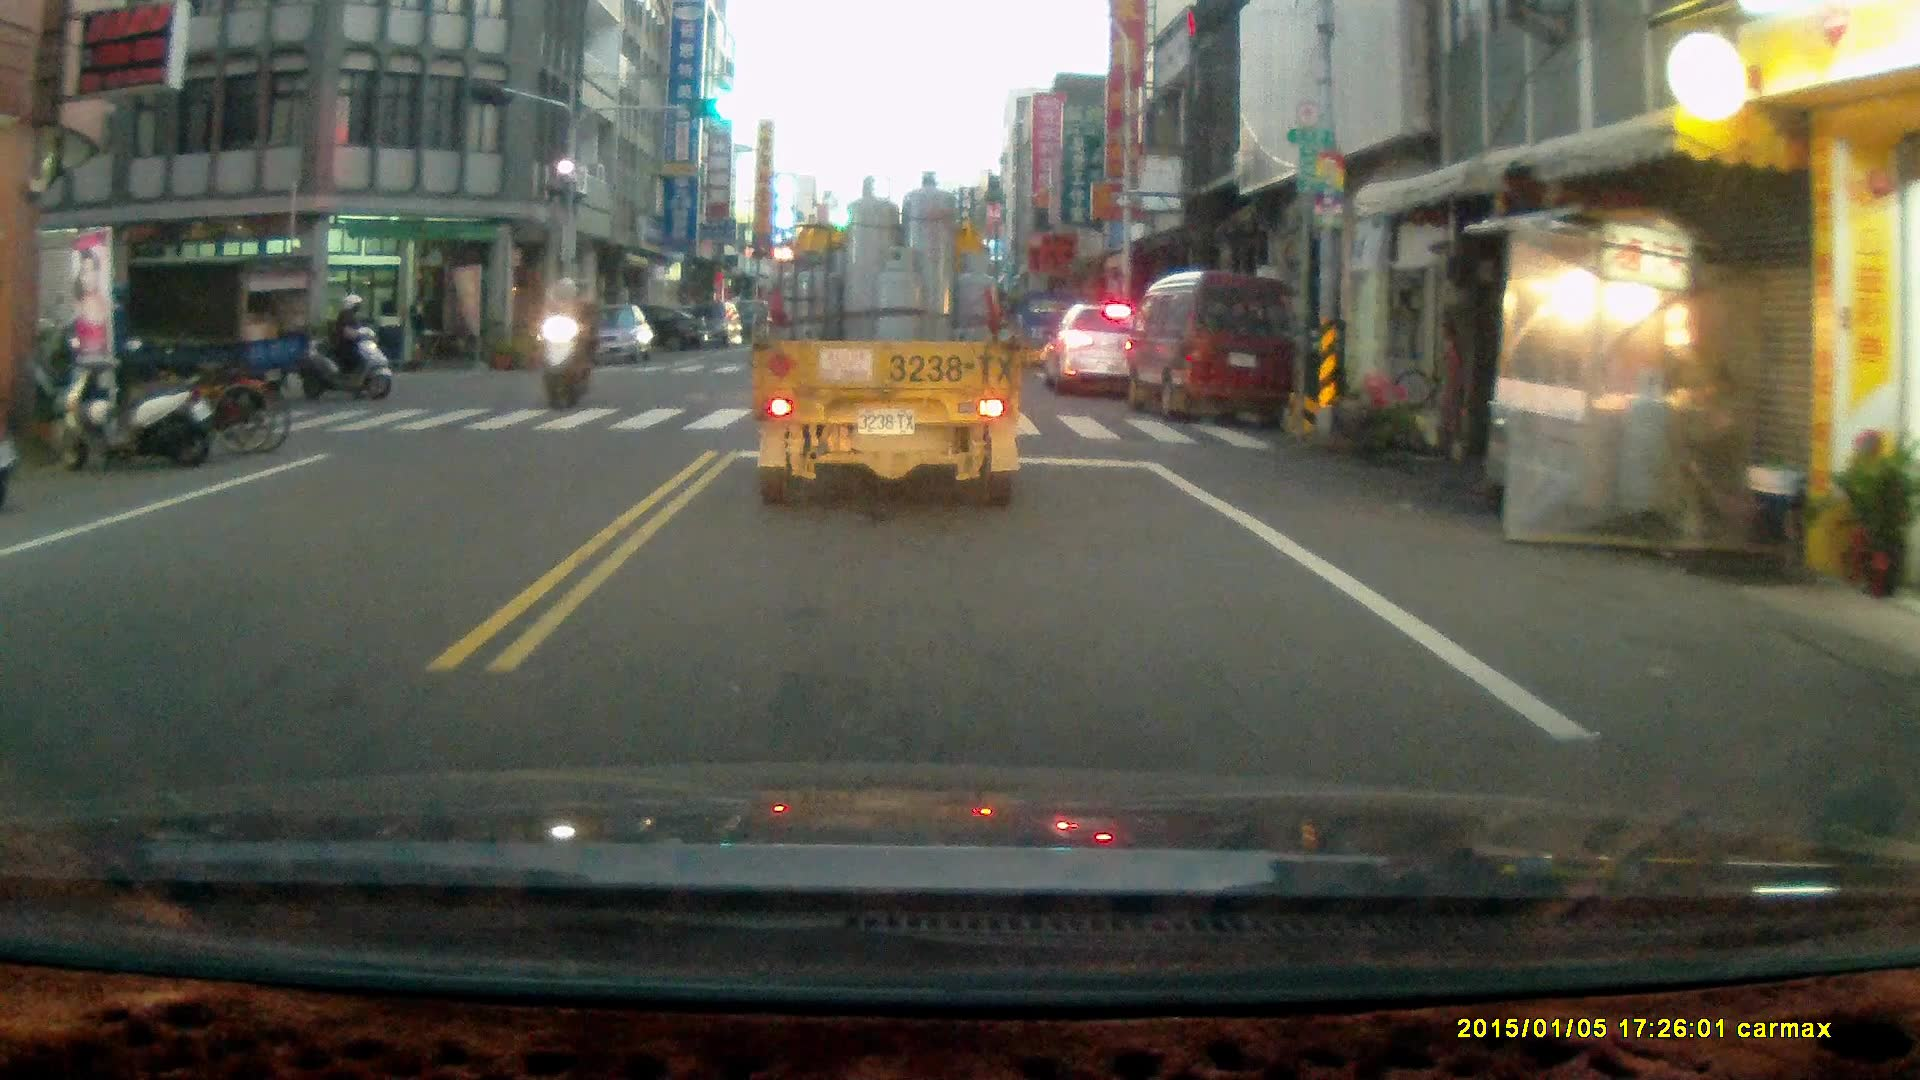pedestrian: (405, 288, 435, 368)
rider: (299, 282, 391, 392), (529, 269, 586, 406)
vehicle: (751, 168, 1028, 511), (53, 247, 325, 412), (1126, 275, 1302, 426), (1044, 300, 1156, 401), (591, 300, 708, 357), (573, 302, 658, 368), (667, 300, 739, 348)
